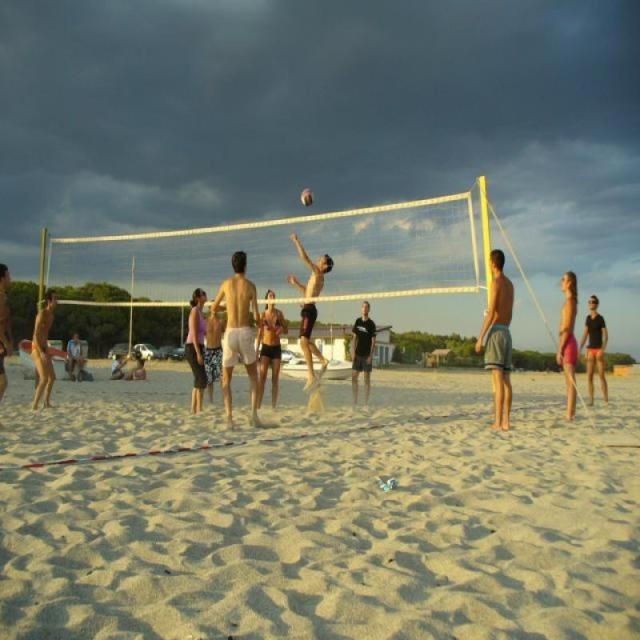volleyball: (298, 180, 316, 206)
